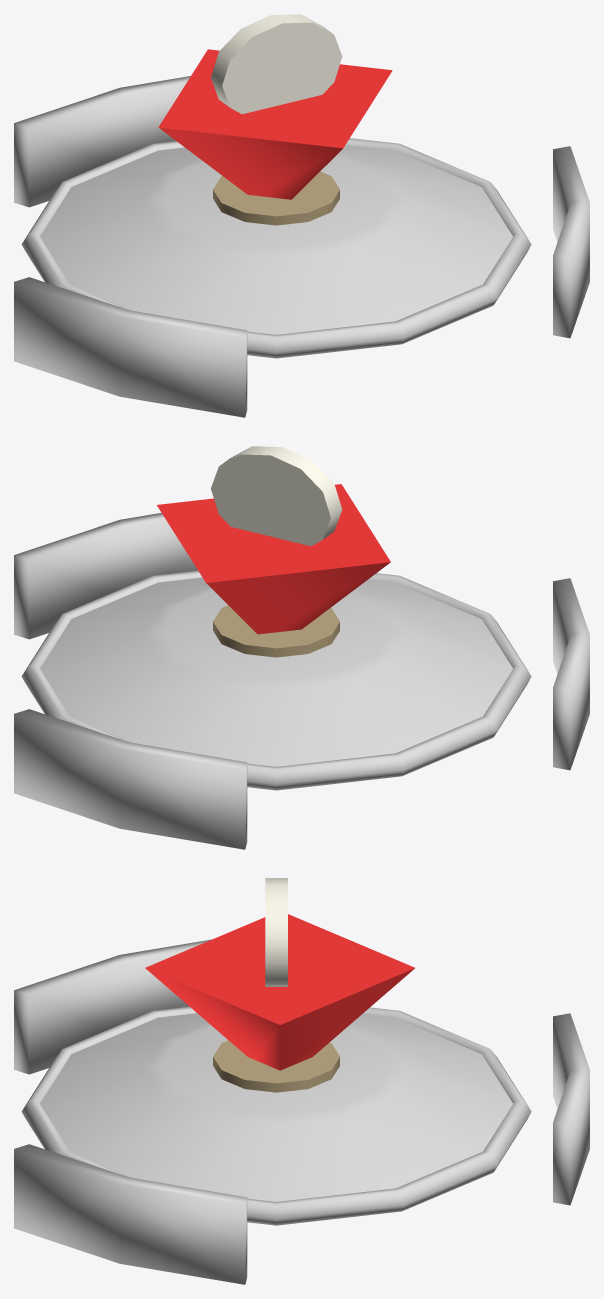
Rendered from UFO2.fbx.
3 views of the same model, one above another, from view 1: azimuth 30°, elevation 25°; view 2: azimuth 150°, elevation 25°; view 3: azimuth 270°, elevation 25° (orthographic).
Visible parts, largest first — view 1: Cylinder001, Box001, Cone001; view 2: Cylinder001, Box001, Cone001; view 3: Cylinder001, Box001, Cone001.
Boxes of the visible parts, x1=… form: Cylinder001: x1=21, y1=138, x2=531, y2=358; Box001: x1=14, y1=76, x2=589, y2=417; Cone001: x1=158, y1=14, x2=392, y2=225; Cylinder001: x1=21, y1=570, x2=531, y2=790; Box001: x1=14, y1=513, x2=589, y2=849; Cone001: x1=157, y1=446, x2=390, y2=657; Cylinder001: x1=21, y1=1006, x2=531, y2=1225; Box001: x1=14, y1=939, x2=589, y2=1284; Cone001: x1=145, y1=878, x2=414, y2=1092.
Bounding box in the file's own units: 1020 × 460 × 915.
